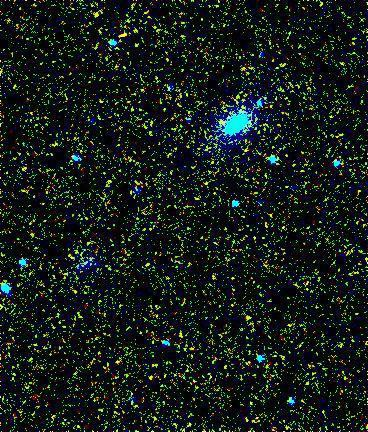star: (206, 109, 236, 139)
